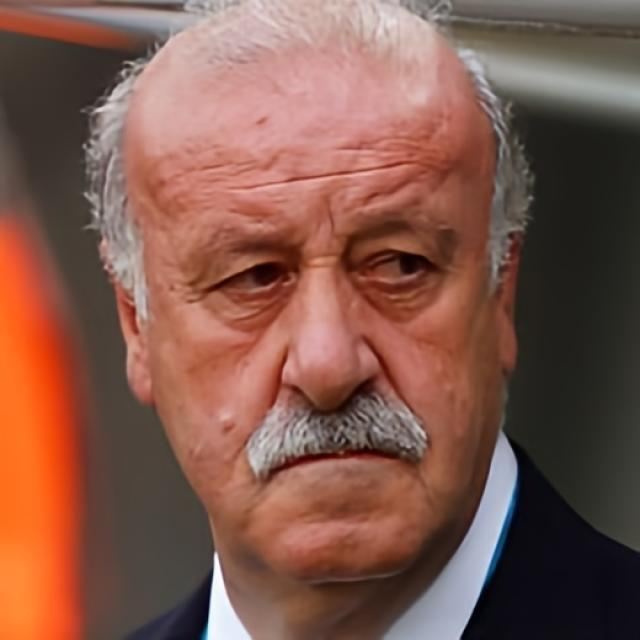anger: (145, 78, 491, 590)
